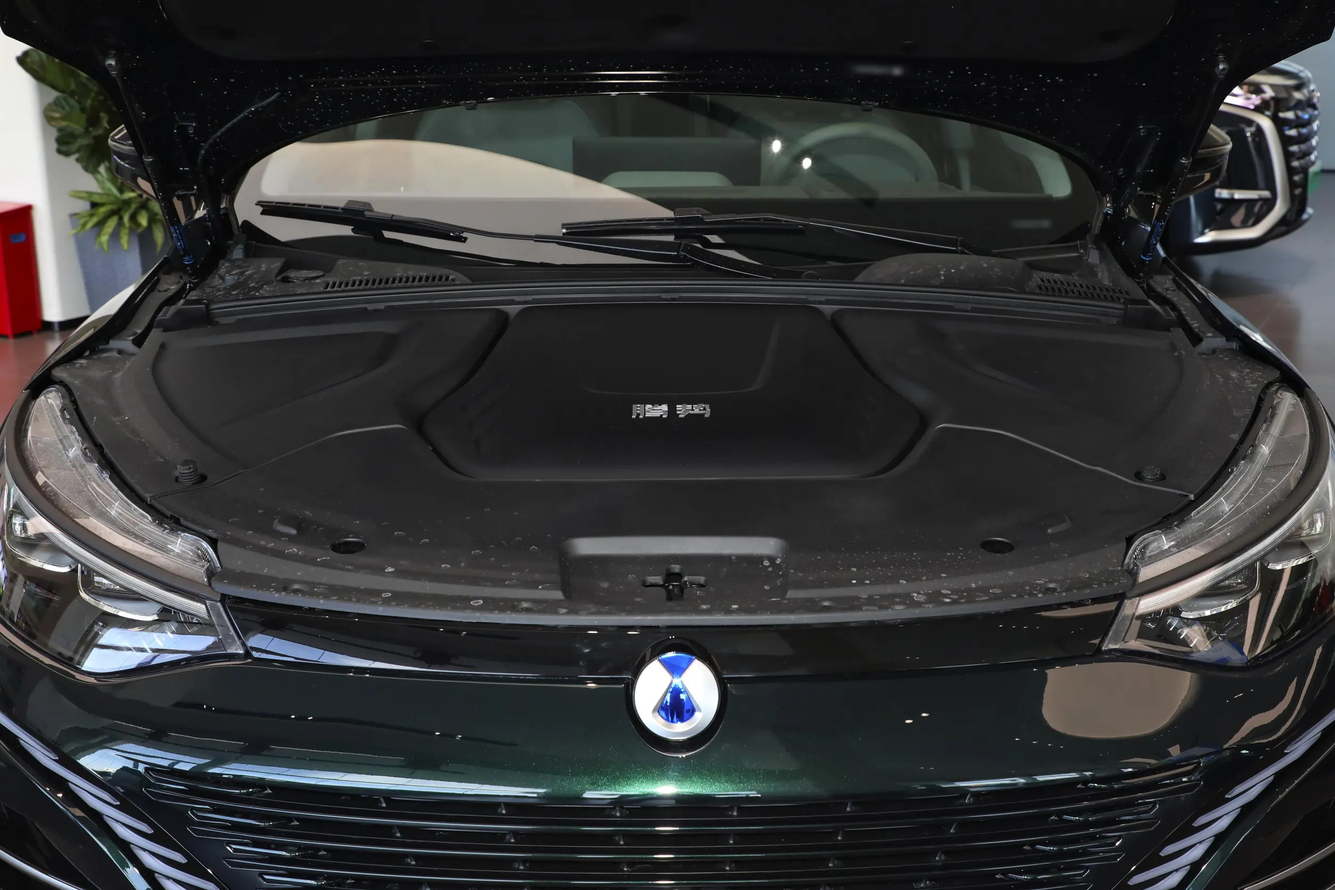DENZA: (634, 653, 719, 739)
